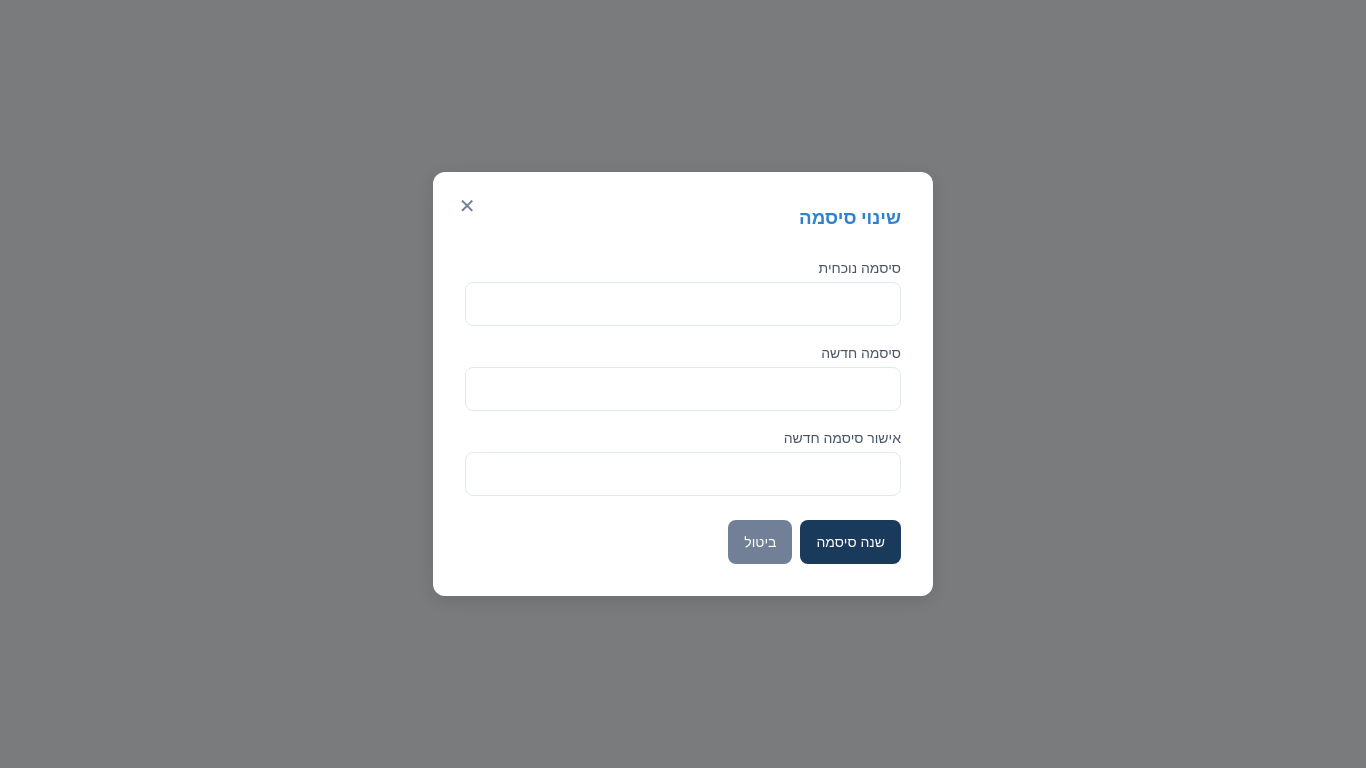
Test: ChangePasswordModal › should show success message after successful change
The image size is (1366, 768).
Type "current123" into the password field labelled "סיסמה נוכחית". click: coordinates (683, 304)
box: [465,282,901,326]
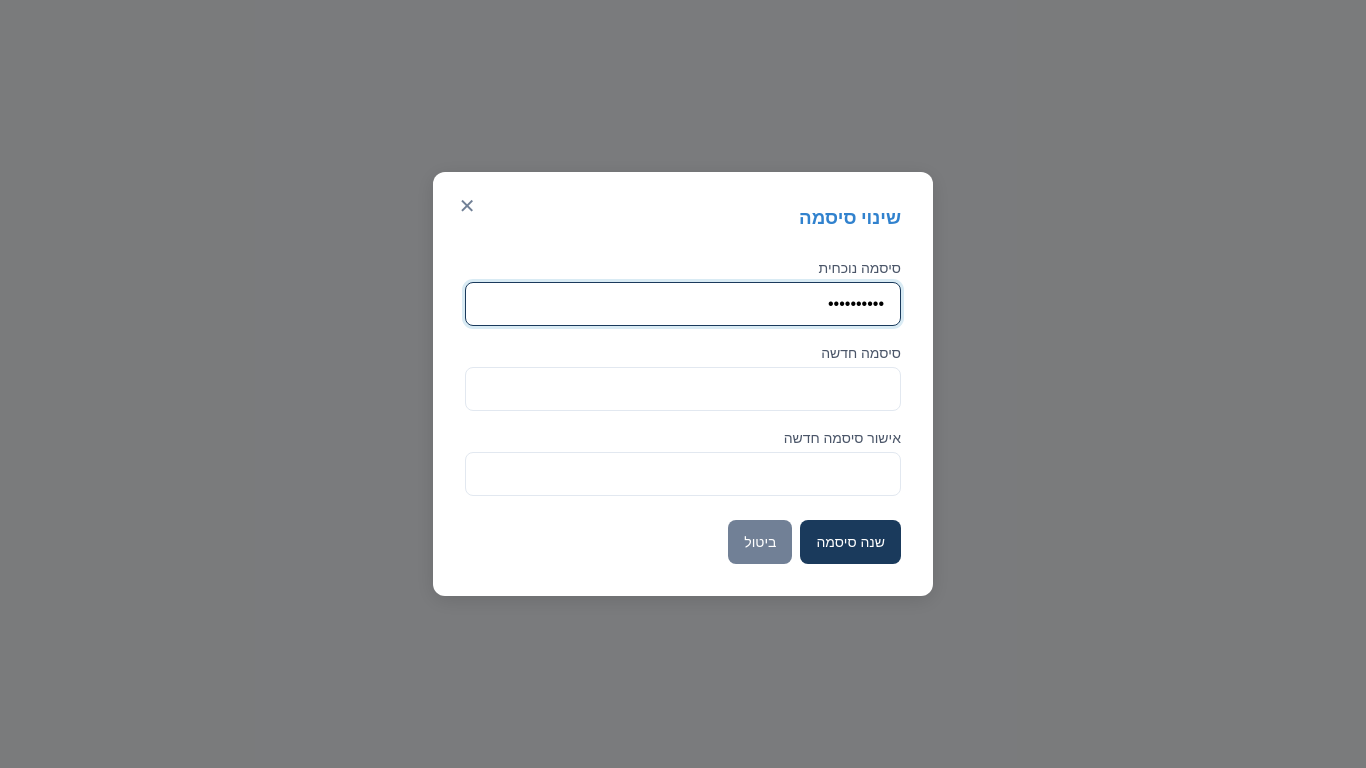
Type "newpass123" into the password field labelled "סיסמה חדשה". click: coordinates (683, 388)
box: [465,366,901,410]
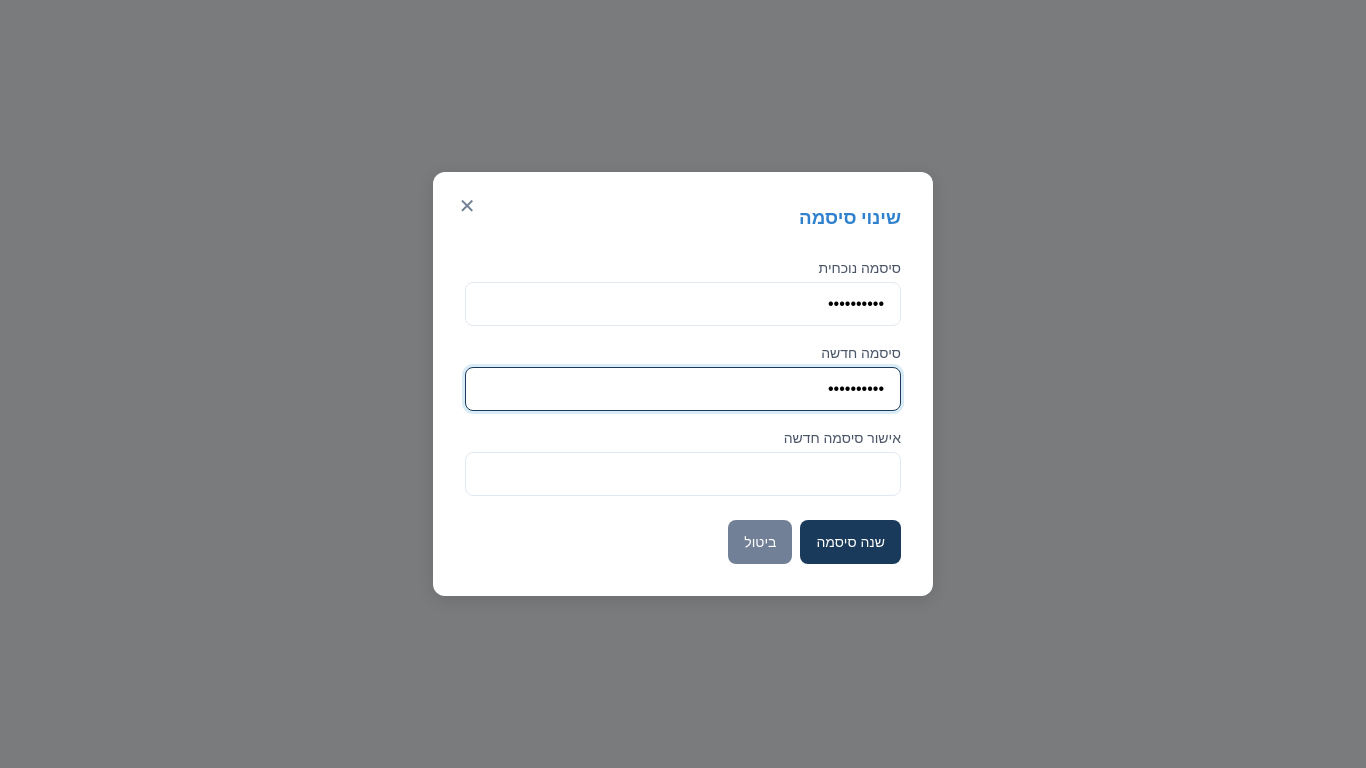
Type "newpass123" into the password field labelled "אישור סיסמה חדשה". click: coordinates (683, 474)
box: [465,452,901,496]
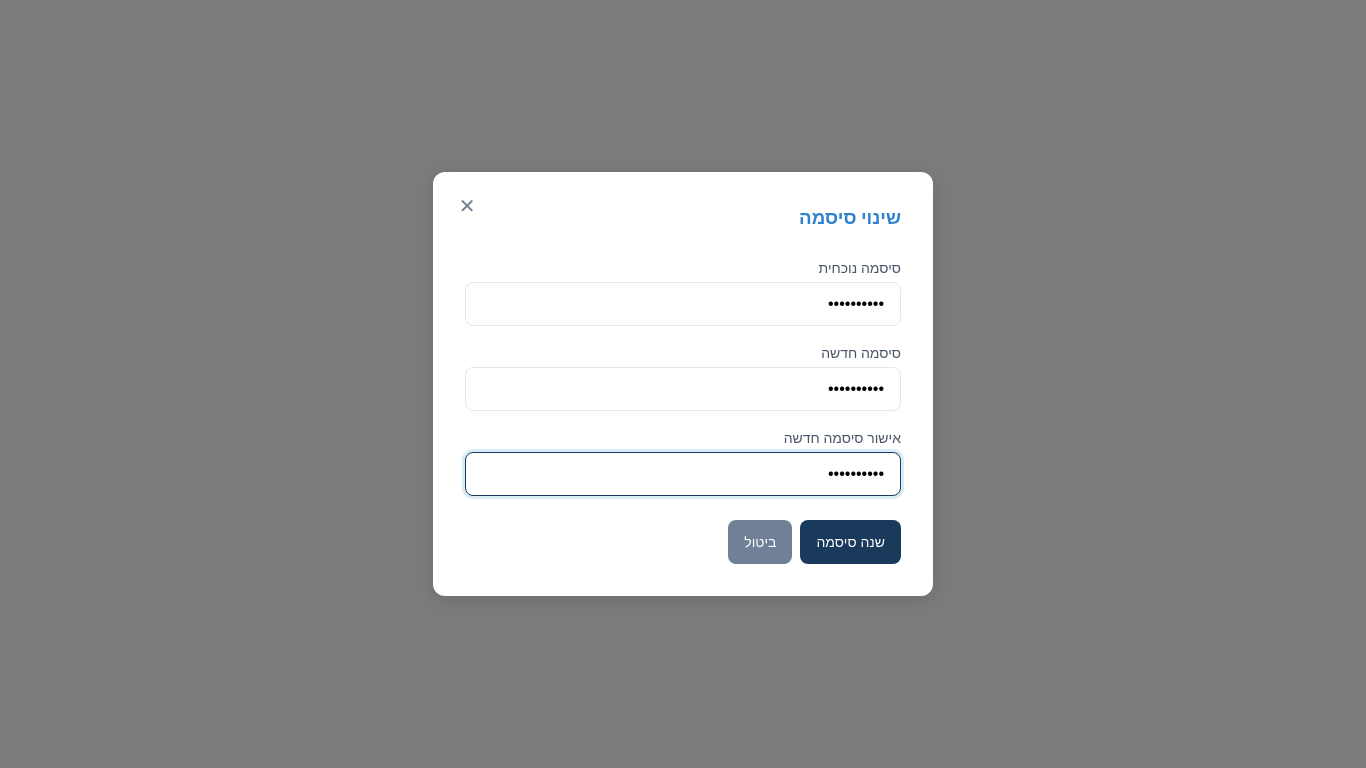
Click the button "שנה סיסמה". click: coordinates (851, 542)
box: [800,520,901,564]
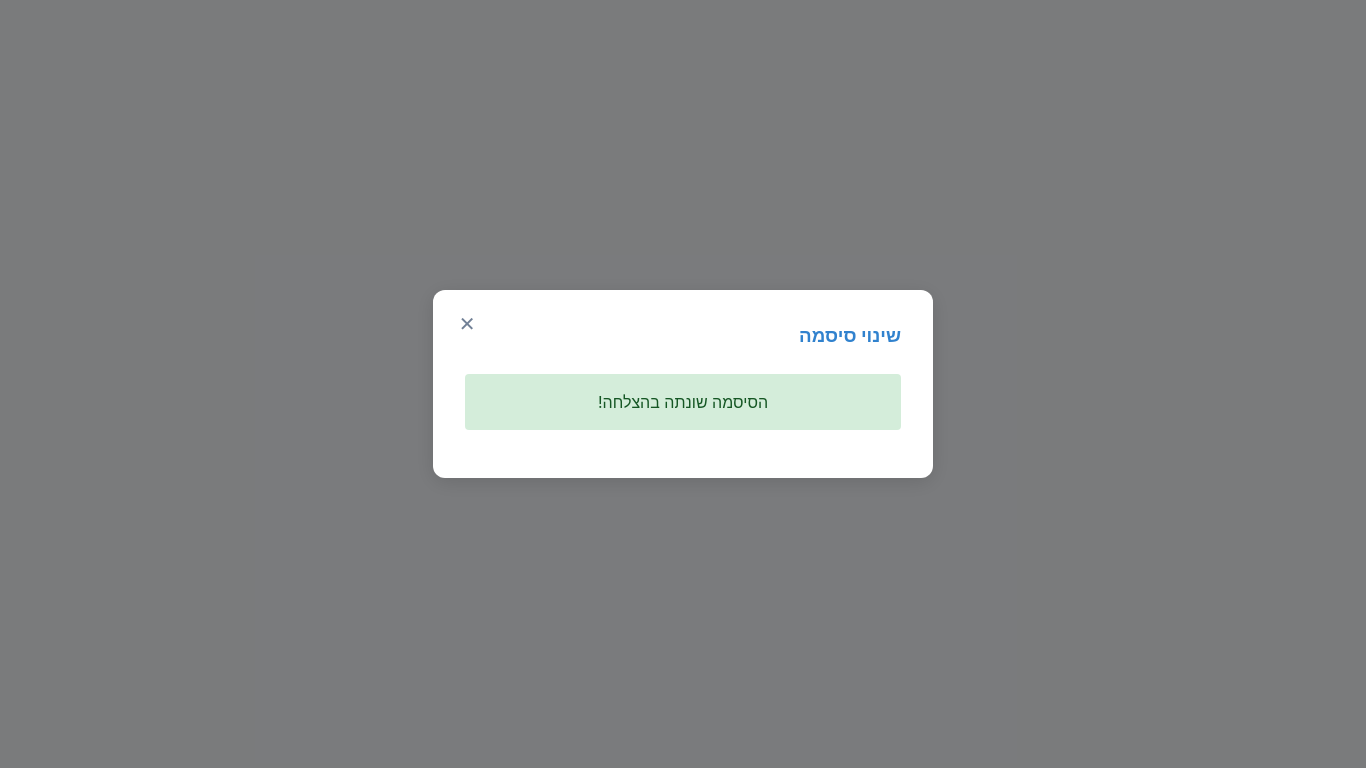
Expected: the text "הסיסמה שונתה בהצלחה!" is shown, [465,374,901,430]
